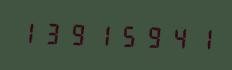five: (113, 19, 136, 50)
four: (161, 21, 184, 52)
nine: (65, 18, 88, 49), (137, 20, 160, 51)
one: (17, 16, 40, 47), (185, 22, 208, 53), (89, 19, 112, 49)
three: (41, 17, 64, 48)
